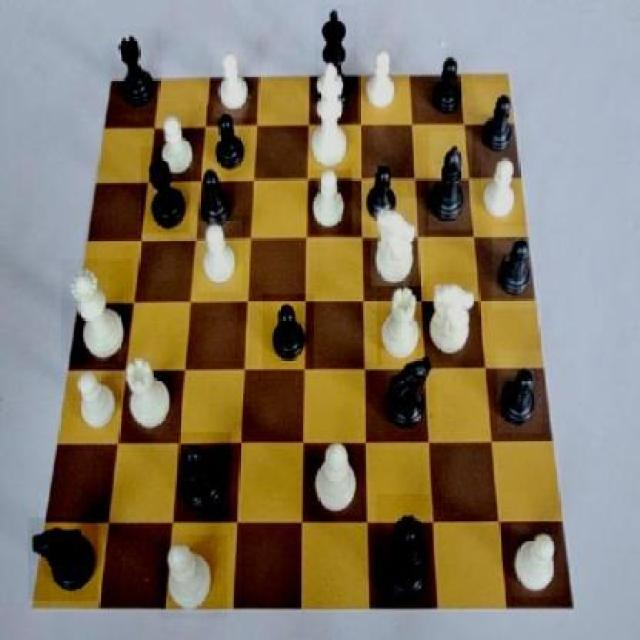bishop: (177, 432, 231, 522), (430, 131, 472, 230)
black-bishop: (316, 5, 358, 120)
black-king: (28, 518, 98, 601), (383, 348, 437, 440)
black-knight: (261, 294, 314, 370), (492, 226, 536, 309), (497, 351, 541, 434), (476, 84, 520, 158), (428, 49, 472, 122), (208, 105, 252, 177), (196, 162, 234, 232), (364, 158, 400, 231)
black-pawn: (377, 494, 432, 610)
black-queen: (109, 30, 160, 116), (140, 148, 190, 234)
black-rook: (160, 536, 228, 620), (313, 434, 362, 526)
white-bishop: (311, 58, 351, 171)
white-king: (426, 272, 489, 368), (371, 199, 424, 286)
white-knight: (511, 523, 566, 597), (77, 363, 123, 436), (152, 111, 198, 180), (198, 220, 242, 292), (480, 146, 521, 222), (214, 50, 258, 119), (309, 169, 352, 237), (362, 45, 399, 117)
white-pawn: (61, 260, 134, 365)
white-queen: (118, 348, 178, 442), (377, 282, 429, 366)
